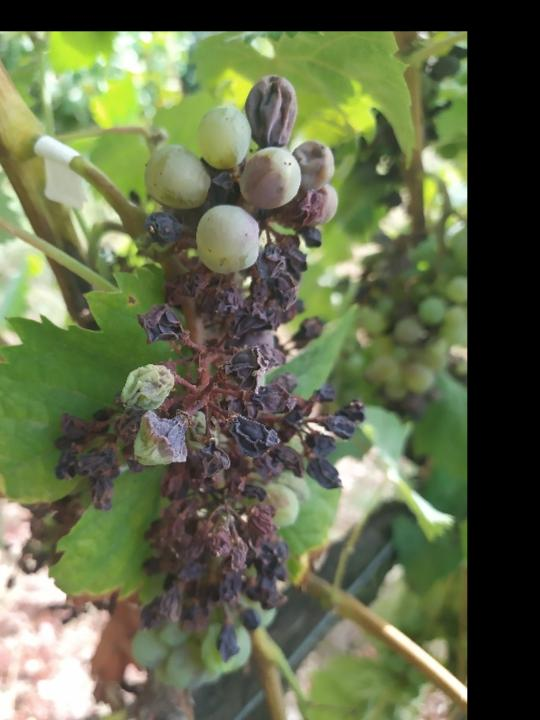grape: (46, 71, 371, 664)
